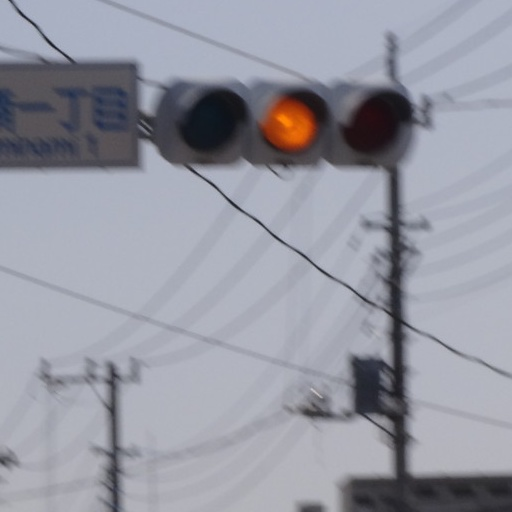Traffic_Signal_Yellow: (155, 77, 420, 166)
